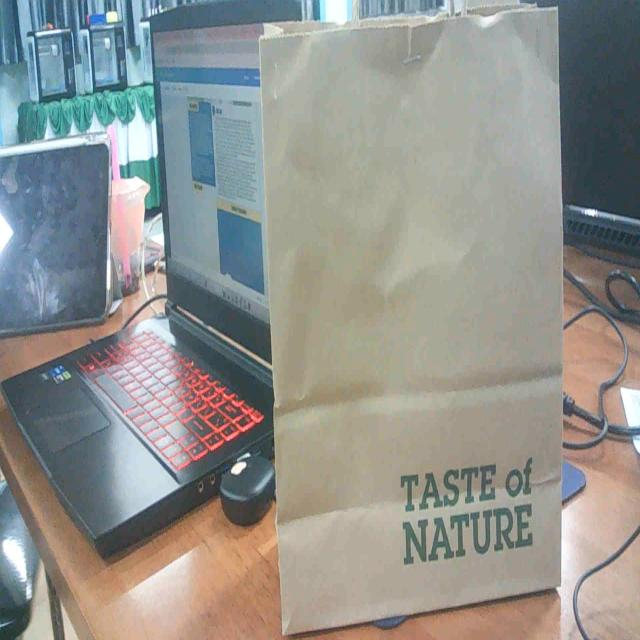bag: (233, 0, 586, 615)
